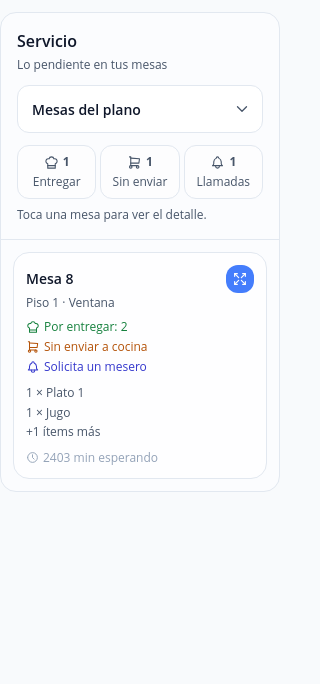
it: keeps repeated table numbers on different floors separate and filters by pending type
Select "Todo el salón" in the dropdown at (140, 109), box [17,85,263,133]
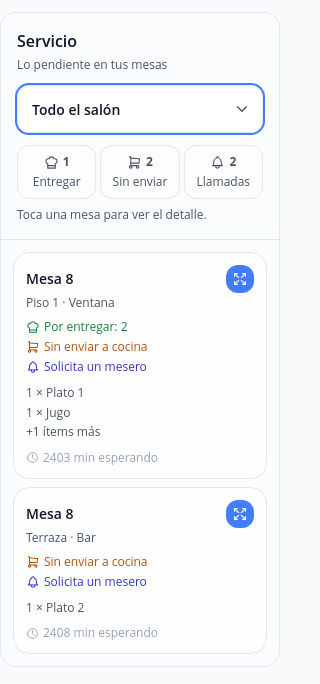
Expected: the number of list items is 2, [13,252,267,478]; [13,486,267,654]
Expected: the text "Terraza · Bar" is shown, [26,528,96,546]
Click the button with aria-label "Listos para entregar: 1".
click(57, 172)  # box [17,145,96,199]
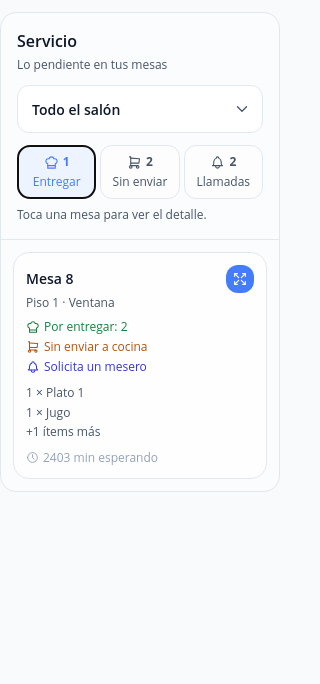
Expected: the number of list items is 1, [13,252,267,478]
Expected: the button "Terraza · Bar" is gone
Click the button with aria-label "Listos para entregar: 1".
click(57, 172)  # box [17,145,96,199]
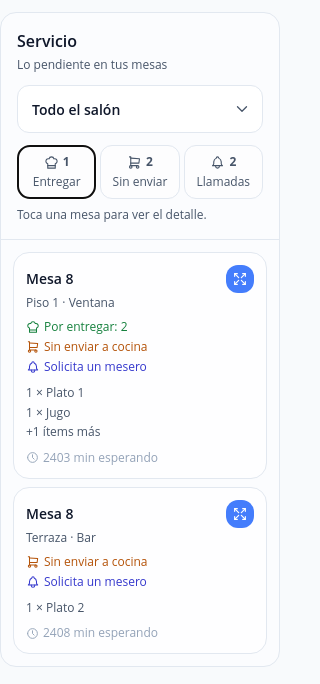
Expected: the number of list items is 2, [13,252,267,478]; [13,486,267,654]
